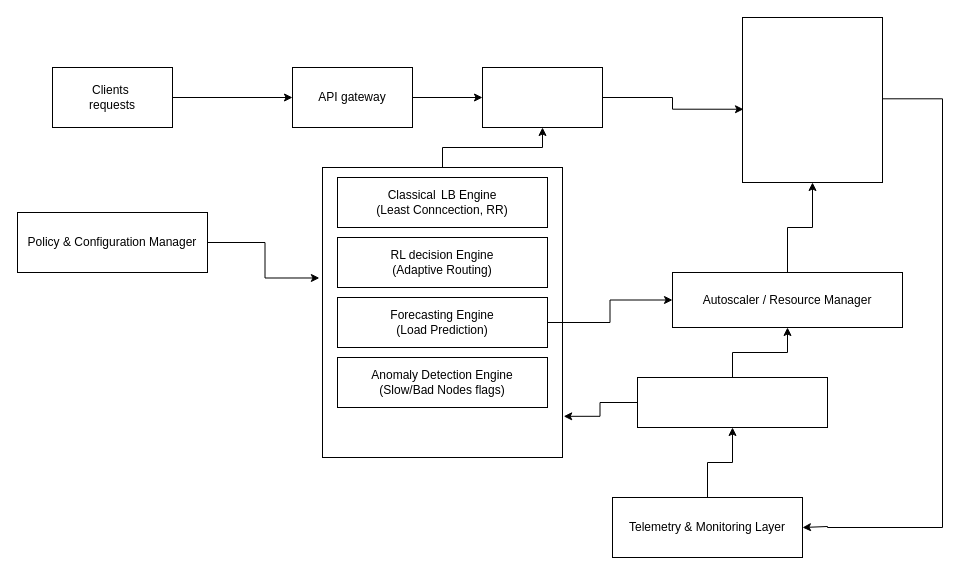
The diagram is 968 pixels wide and 575 high, and some of its shapes have lost their labels. The box of each missing label's shape, as (x1, y1, x2, y2) in pixels:
Decision Intelligence Layer: (322, 166, 562, 458)
Load Balancer: (482, 66, 602, 128)
Metrics Database: (636, 376, 828, 428)
Servers: (742, 16, 882, 182)
